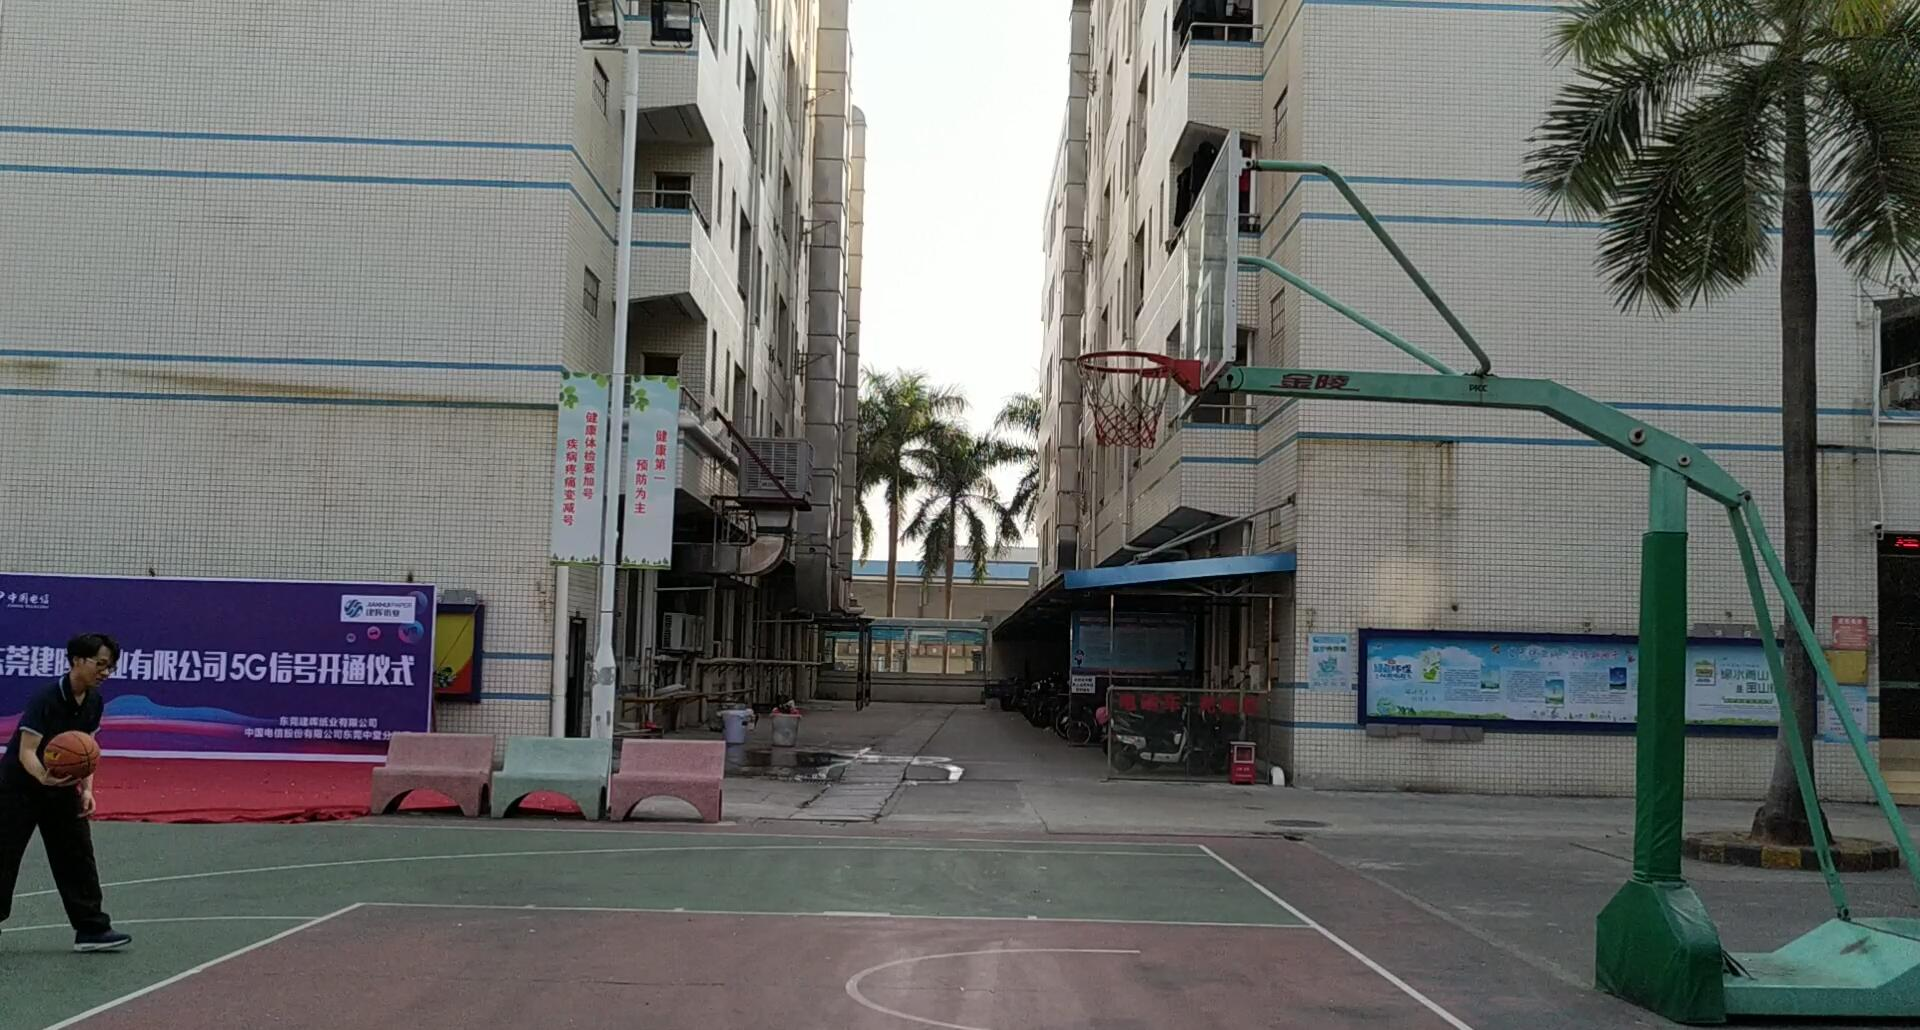basketball: (44, 726, 103, 787)
